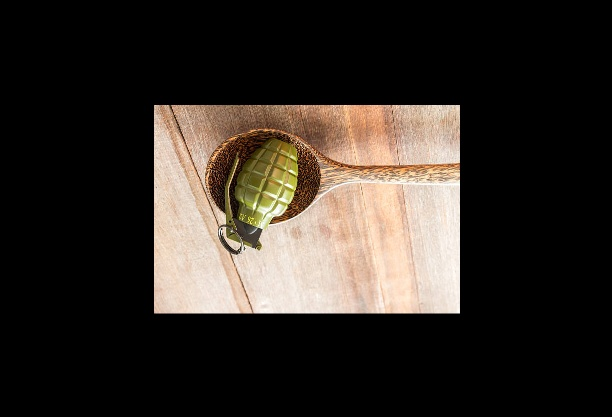e1: (214, 139, 304, 256)
